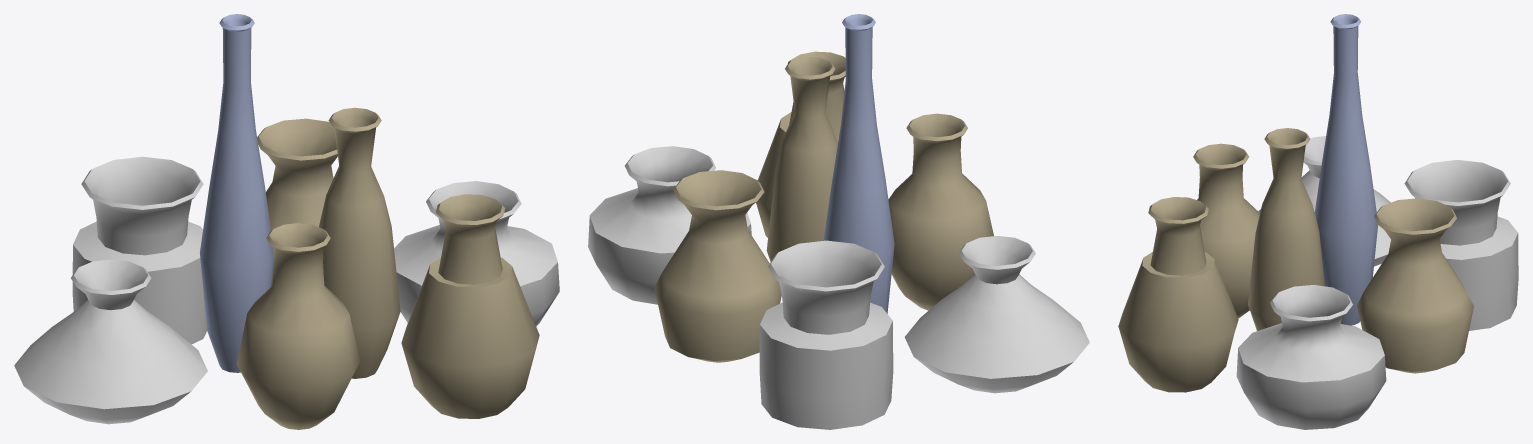
The model's file is eight_vases.glb.
3 renders of one model, left to right at view 1: azimuth 30°, elevation 25°; view 2: azimuth 150°, elevation 25°; view 3: azimuth 270°, elevation 25°, orthographic. The views are drawn at different scales.
Visible parts, largest first — view 1: vase.232_vase.1346, vase.187_vase.1326, vase.161_vase.1389; view 2: vase.187_vase.1326, vase.232_vase.1346, vase.161_vase.1389; view 3: vase.232_vase.1346, vase.187_vase.1326, vase.161_vase.1389.
Boxes of the visible parts, bbox=[...] form: vase.232_vase.1346: bbox=[237, 107, 539, 429]; vase.187_vase.1326: bbox=[14, 156, 559, 424]; vase.161_vase.1389: bbox=[200, 14, 273, 372]; vase.187_vase.1326: bbox=[588, 146, 1089, 429]; vase.232_vase.1346: bbox=[654, 51, 993, 362]; vase.161_vase.1389: bbox=[823, 14, 894, 313]; vase.232_vase.1346: bbox=[1118, 128, 1473, 392]; vase.187_vase.1326: bbox=[1236, 136, 1518, 429]; vase.161_vase.1389: bbox=[1314, 14, 1377, 325].
Size of the model in its own units: 11.49 by 7.44 by 8.96.
